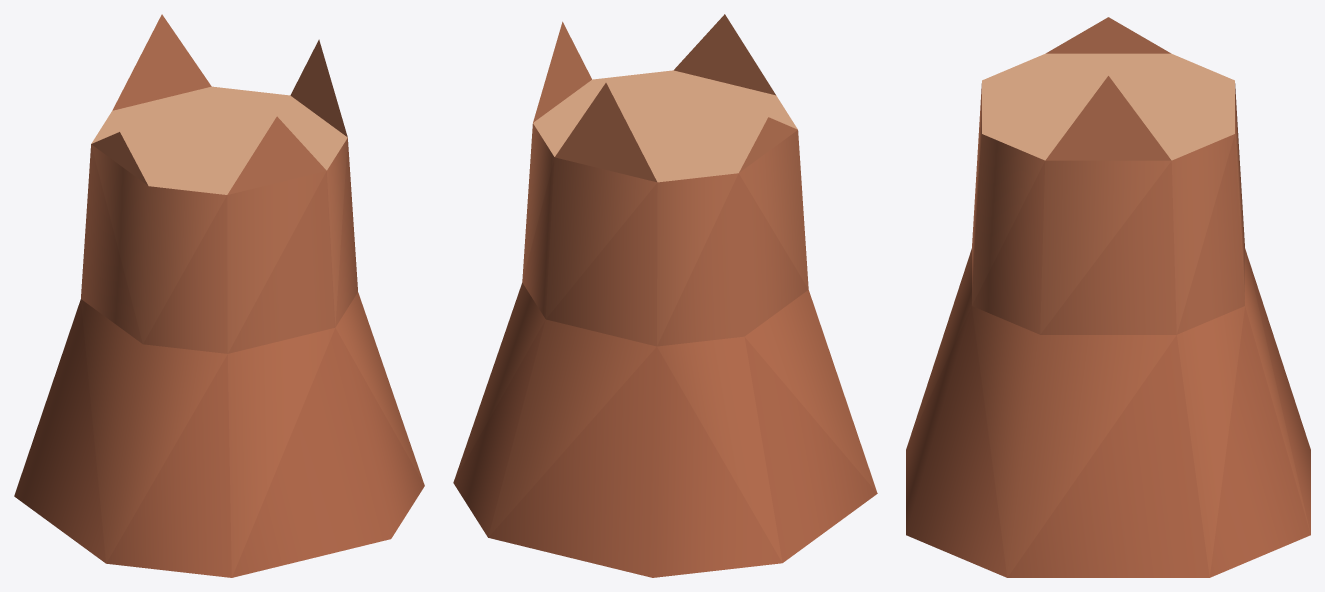
The model's file is tree-trunk.glb.
3 renders of one model, left to right at view 1: azimuth 30°, elevation 25°; view 2: azimuth 150°, elevation 25°; view 3: azimuth 270°, elevation 25°, orthographic. The views are drawn at different scales.
Visible parts, largest first — view 1: cc06e4c, cc77450, cd37d58, cdb845d, ce7af89, ce48c63; view 2: cc06e4c, cc77450, cd37d58, cdb845d, ce7af89, ce48c63; view 3: cc06e4c, cc77450, cd37d58, cdb845d, ce7af89, ce48c63.
Part boxes in pixels (x1=…): cc06e4c: x1=14, y1=299, x2=424, y2=577; cc77450: x1=81, y1=292, x2=424, y2=577; cd37d58: x1=81, y1=138, x2=357, y2=353; cdb845d: x1=91, y1=138, x2=347, y2=353; ce7af89: x1=91, y1=86, x2=347, y2=194; ce48c63: x1=91, y1=14, x2=347, y2=194; cc06e4c: x1=453, y1=320, x2=877, y2=577; cc77450: x1=453, y1=282, x2=877, y2=562; cd37d58: x1=522, y1=158, x2=808, y2=346; cdb845d: x1=522, y1=123, x2=808, y2=345; ce7af89: x1=533, y1=70, x2=797, y2=182; ce48c63: x1=533, y1=14, x2=797, y2=182; cc06e4c: x1=906, y1=249, x2=1310, y2=577; cc77450: x1=906, y1=248, x2=1310, y2=577; cd37d58: x1=972, y1=83, x2=1244, y2=334; cdb845d: x1=972, y1=83, x2=1244, y2=334; ce7af89: x1=982, y1=53, x2=1234, y2=160; ce48c63: x1=1045, y1=17, x2=1171, y2=160.
Bounding box in the file's own units: 0.2 × 0.2608 × 0.2.
